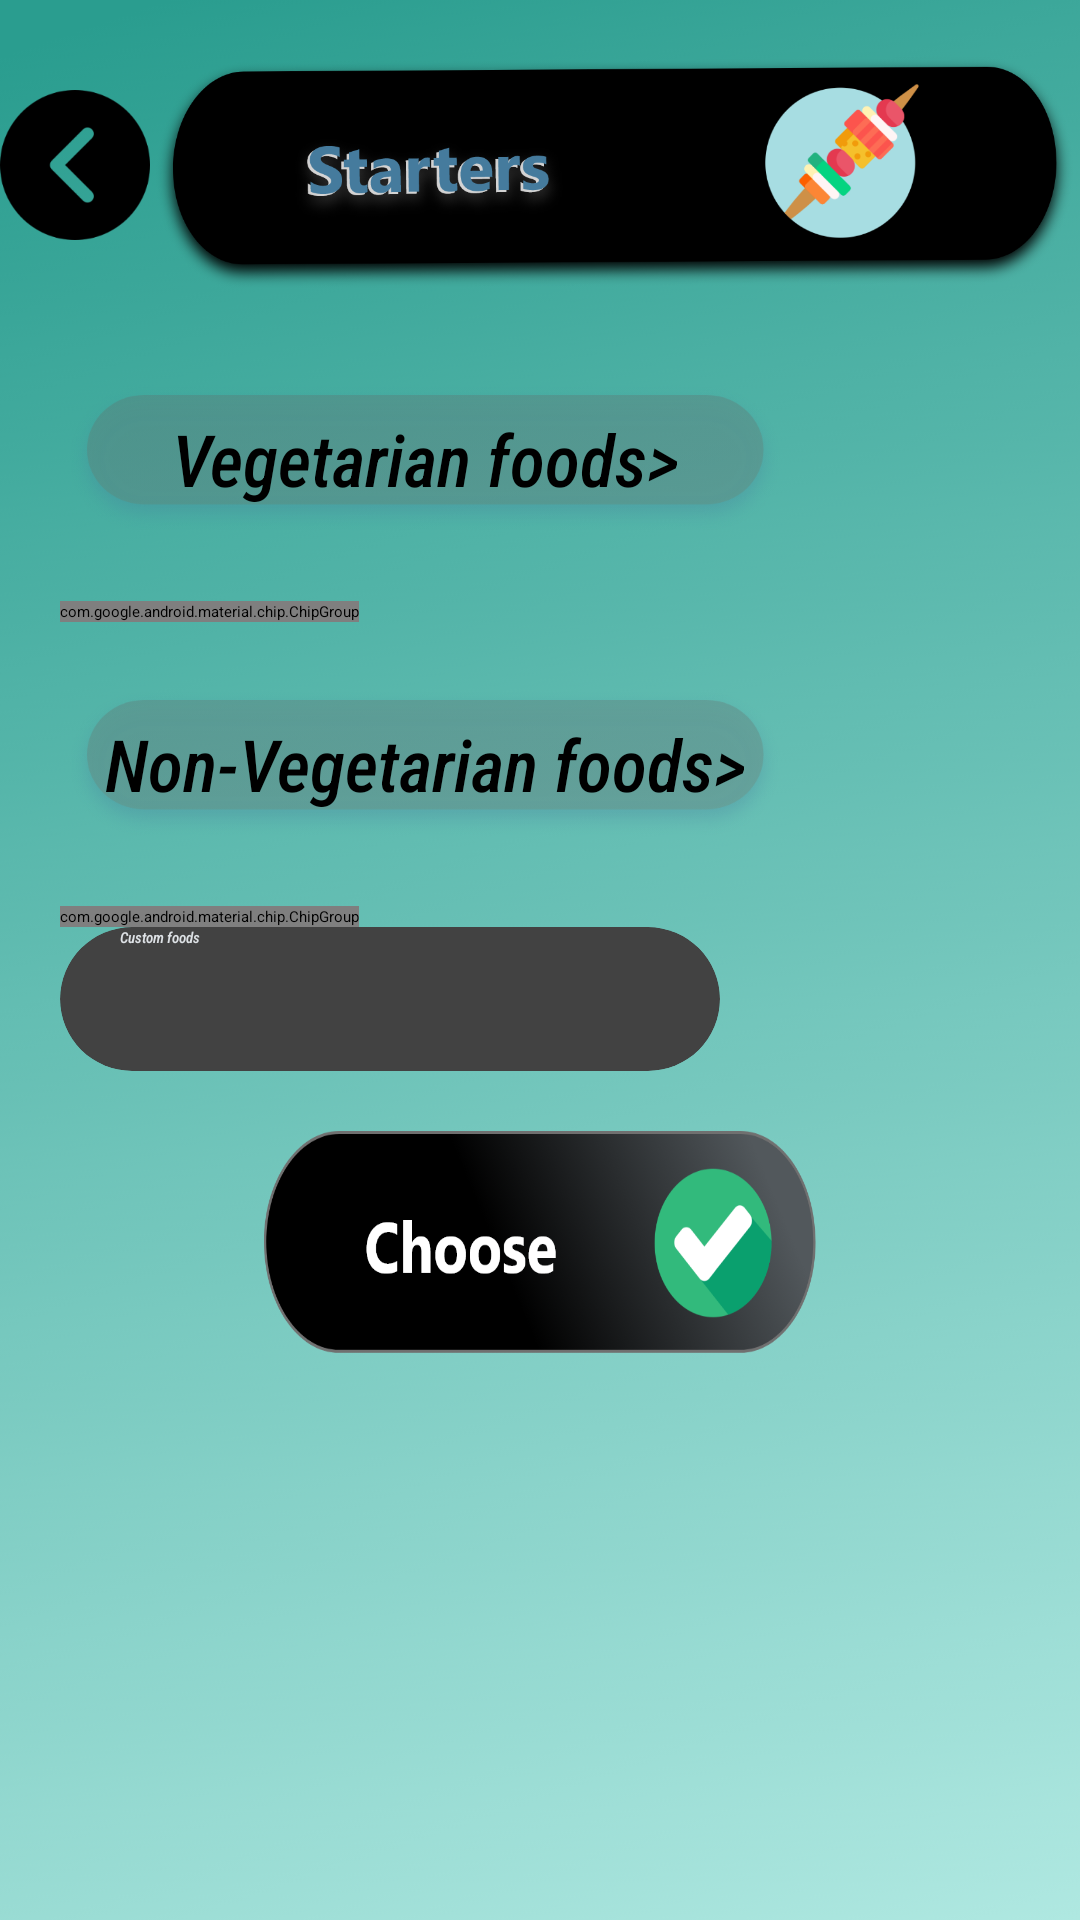

Icon click points for this 1080x1920 phone screenshot, format point (x, y):
previous: point (75, 165)
